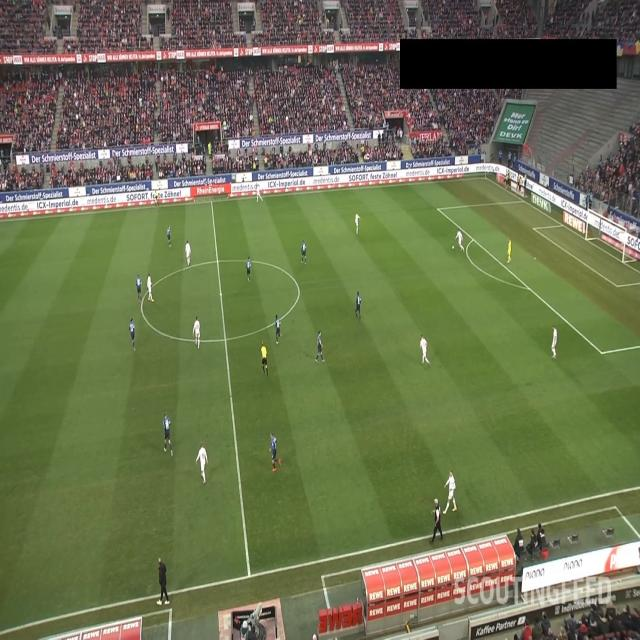ball: (451, 245, 455, 250)
